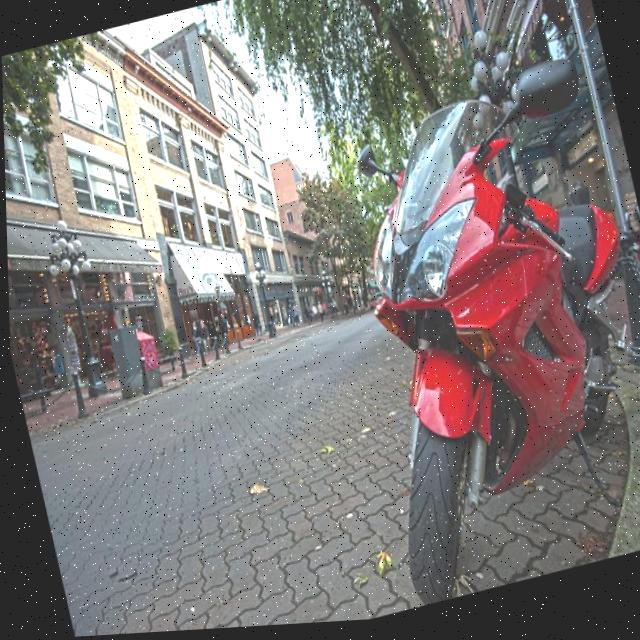motorcycle: (302, 39, 640, 611)
